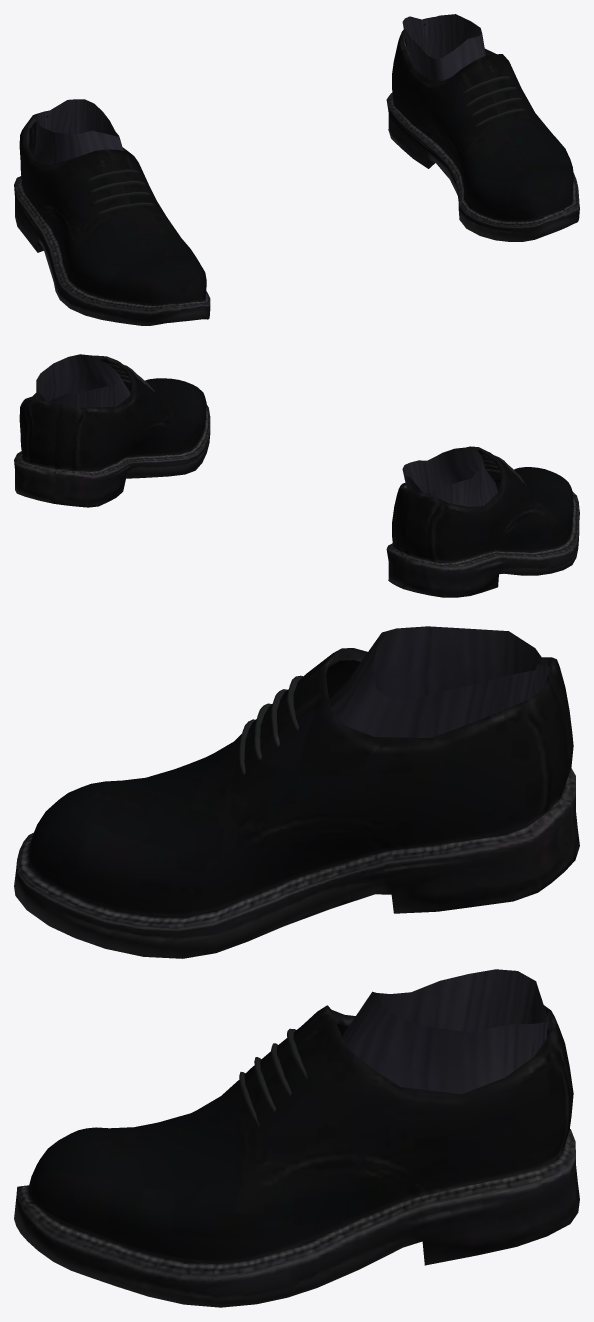
File: female_boots.glb
3 views of the same model, one above another, from view 1: azimuth 30°, elevation 25°; view 2: azimuth 150°, elevation 25°; view 3: azimuth 270°, elevation 25° (orthographic). The views are drawn at different scales.
Parts seen in each view (by area): view 1: shoes; view 2: shoes; view 3: shoes.
Boxes of the visible parts, x1,y1,x2,y2 form: shoes: [14, 14, 579, 325]; shoes: [14, 354, 579, 597]; shoes: [14, 626, 579, 1307].
Bounding box in the file's own units: 0.4415 × 0.1175 × 0.2237.
Materials: 1 (1 with a texture image).
